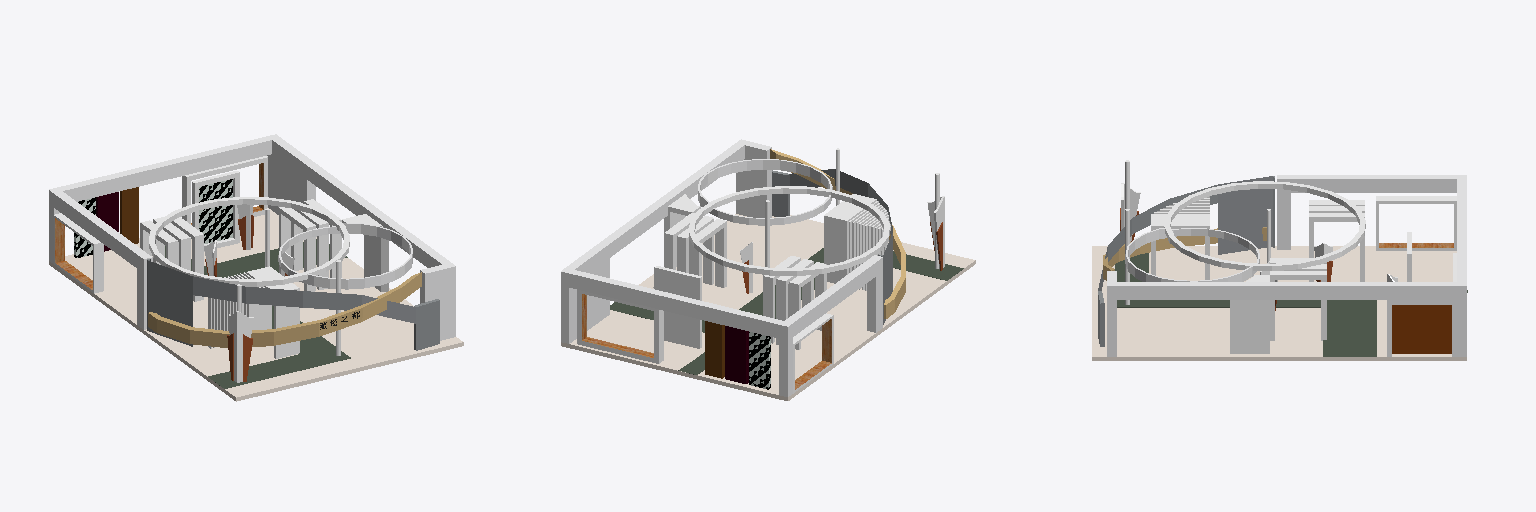
3 views of the same model, side by side, from view 1: azimuth 30°, elevation 25°; view 2: azimuth 150°, elevation 25°; view 3: azimuth 270°, elevation 25° (orthographic).
Parts seen in each view (by area): view 1: Group46, Group61, Mesh01, Group62, Group51, Group55, Group5, Group12, Group45, Group10, Group50, Group32 (+10 smaller); view 2: Group46, Group61, Group51, Group5, Group55, Mesh01, Group62, Group50, Group12, Group45, Group48, Group4 (+9 smaller); view 3: Group61, Group46, Group62, Mesh01, Group51, Group32, Group5, Group45, Group12, Group2, Group54.
Boxes of the visible parts, <box> form: Group46: <box>49,134,455,340</box>; Group61: <box>49,208,463,401</box>; Mesh01: <box>147,259,439,350</box>; Group62: <box>165,239,350,388</box>; Group51: <box>149,197,349,286</box>; Group55: <box>192,171,239,251</box>; Group5: <box>278,223,412,289</box>; Group12: <box>246,266,299,358</box>; Group45: <box>54,213,103,293</box>; Group10: <box>148,272,421,337</box>; Group50: <box>182,156,267,224</box>; Group32: <box>342,214,388,291</box>; Group46: <box>561,139,882,396</box>; Group61: <box>561,214,975,400</box>; Group51: <box>689,186,889,275</box>; Group5: <box>698,159,832,225</box>; Group55: <box>654,266,701,348</box>; Mesh01: <box>772,169,892,324</box>; Group62: <box>610,248,963,374</box>; Group50: <box>577,290,663,363</box>; Group12: <box>824,194,876,283</box>; Group45: <box>793,313,833,393</box>; Group48: <box>725,326,748,383</box>; Group4: <box>689,219,726,287</box>; Group61: <box>1092,246,1466,360</box>; Group46: <box>1107,175,1466,356</box>; Group62: <box>1115,253,1467,356</box>; Mesh01: <box>1098,176,1274,346</box>; Group51: <box>1164,181,1365,270</box>; Group32: <box>1230,275,1269,353</box>; Group5: <box>1125,228,1259,281</box>; Group45: <box>1376,196,1456,250</box>; Group12: <box>1151,214,1209,279</box>; Group2: <box>1270,271,1326,340</box>; Group54: <box>1309,213,1364,281</box>.
Bounding box in the file's own units: 796 × 329 × 1137.
Materials: 15 (2 with a texture image).